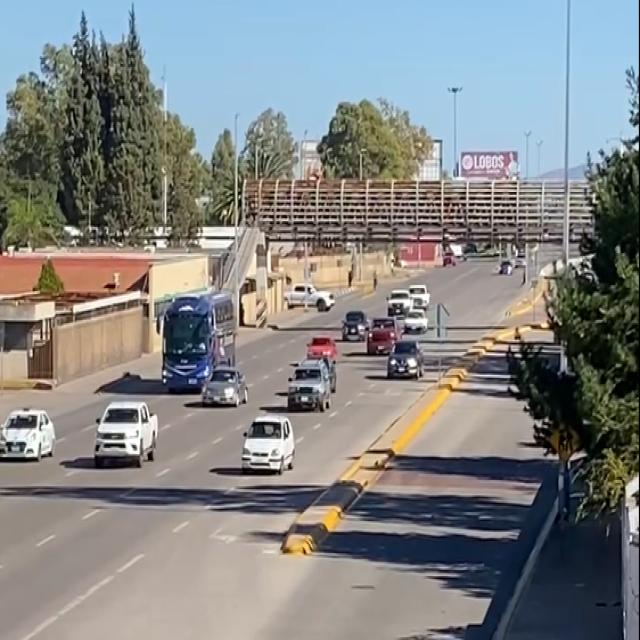Auto: (96, 402, 158, 470), (241, 418, 298, 475), (0, 410, 58, 460), (286, 360, 332, 413), (201, 368, 250, 407), (388, 344, 424, 382), (368, 316, 400, 354)
Autobus: (162, 293, 235, 390)
